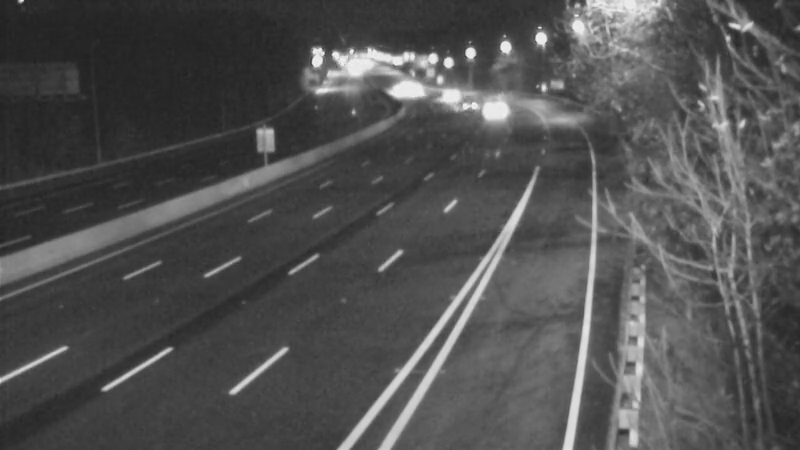vehicle: (376, 65, 426, 115), (426, 71, 476, 121), (437, 81, 487, 131), (463, 81, 513, 131)
